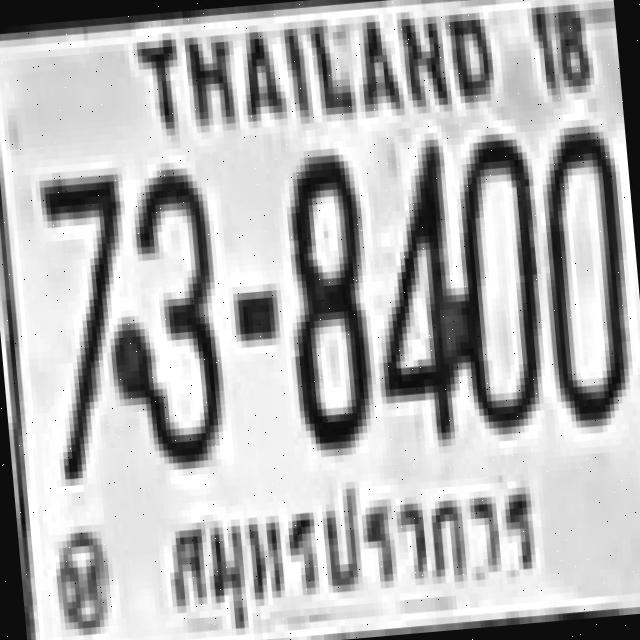0: (443, 125, 548, 430), (528, 118, 632, 422)
3: (101, 160, 228, 466)
4: (360, 134, 468, 440)
7: (34, 168, 139, 480)
8: (273, 146, 377, 445)
SamutPrakan: (136, 460, 553, 638)
